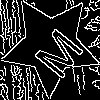M: (25, 20, 85, 82)
